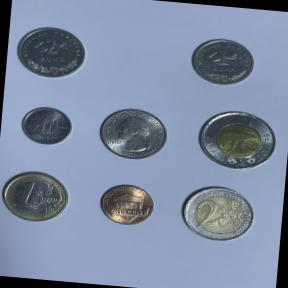coin: (192, 105, 282, 175), (176, 181, 262, 248), (95, 104, 173, 166), (12, 22, 91, 82), (0, 166, 72, 227), (96, 180, 158, 230), (16, 103, 77, 150)
